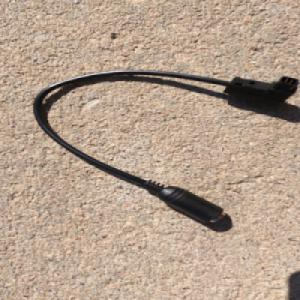Wire: (30, 68, 298, 224)
